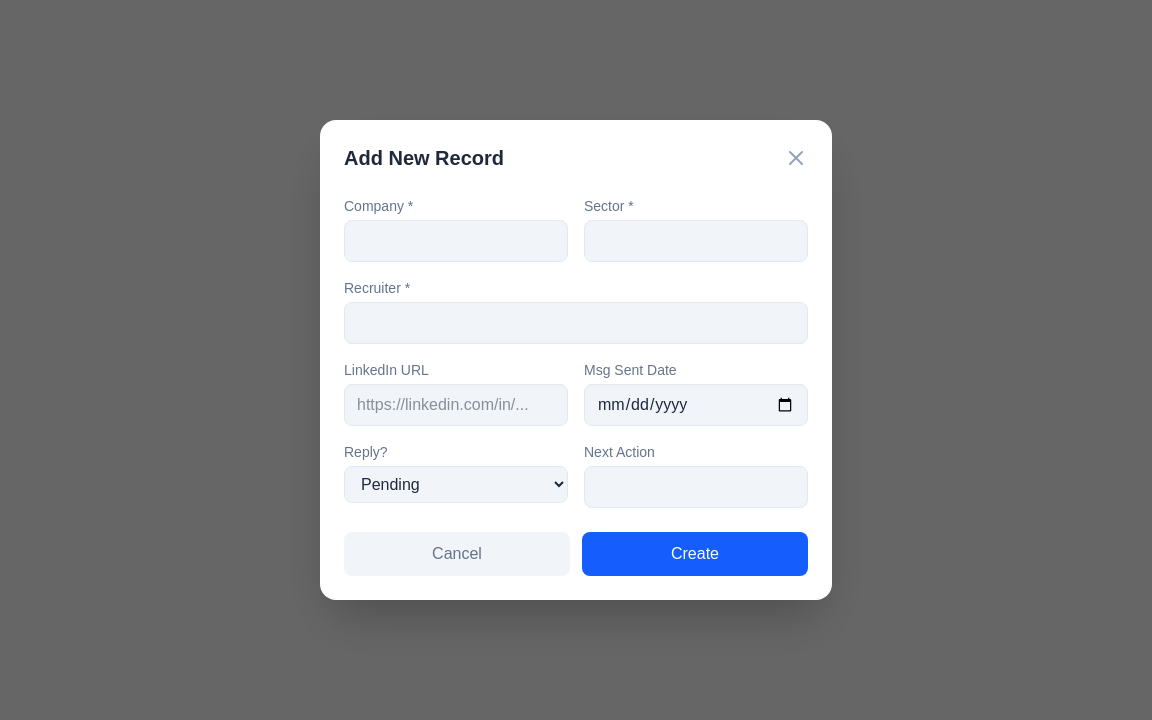
it: OutreachModal › shows validation errors for empty required fields
Click the button "Create" at (695, 554), box left=582, top=532, right=808, bottom=576
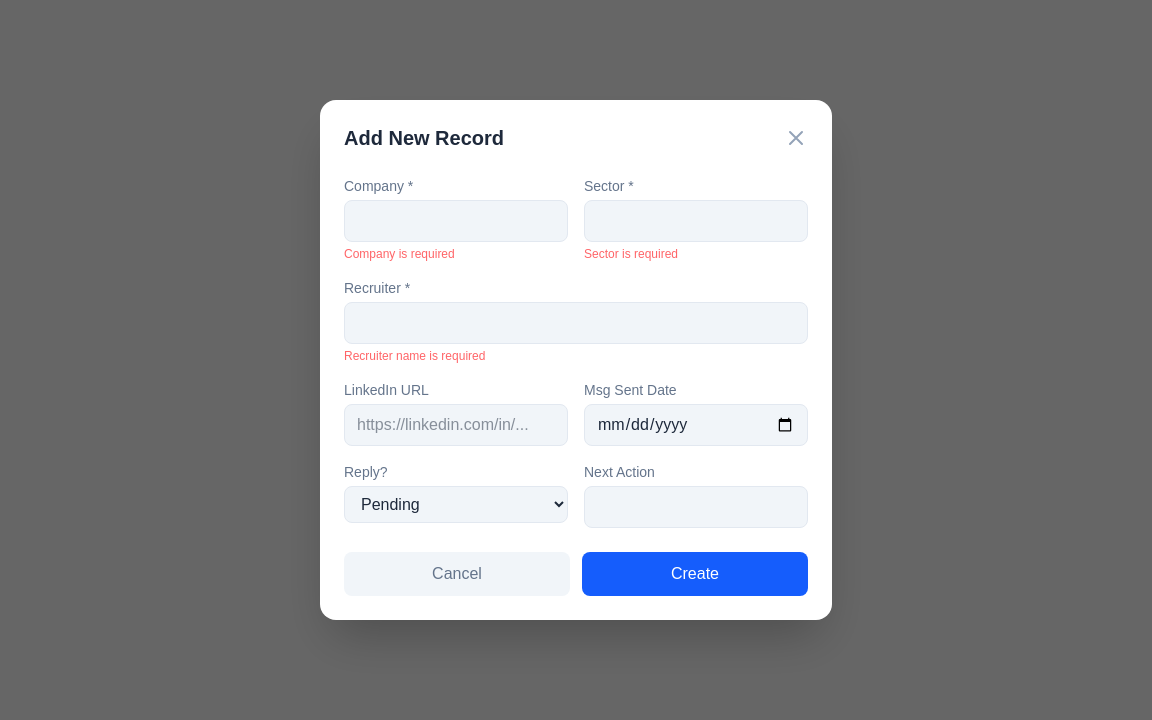
Expected: the text "Company is required" is shown, left=344, top=247, right=455, bottom=261
Expected: the text "Sector is required" is shown, left=584, top=247, right=678, bottom=261
Expected: the text "Recruiter name is required" is shown, left=344, top=349, right=485, bottom=363
